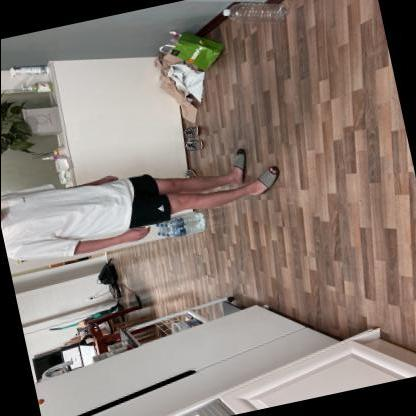no_safety-shoe: (238, 162, 292, 202), (225, 143, 261, 188)
